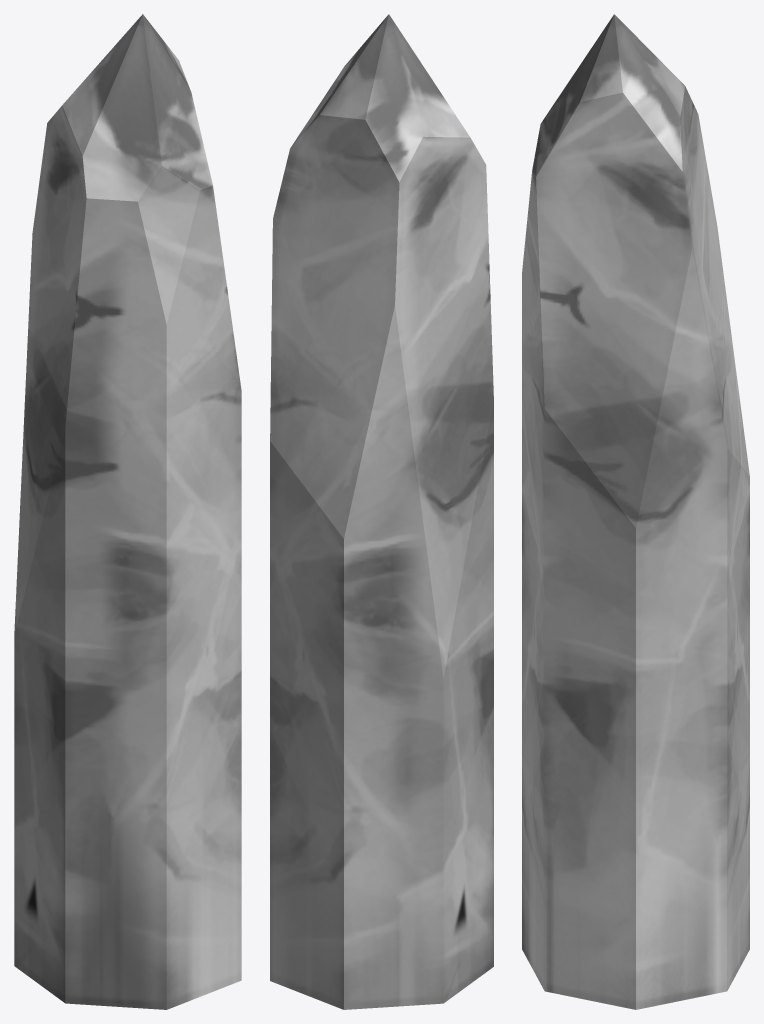
The model's file is Crystal01.fbx.
3 renders of one model, left to right at view 1: azimuth 30°, elevation 25°; view 2: azimuth 150°, elevation 25°; view 3: azimuth 270°, elevation 25°, orthographic.
Visible parts, largest first — view 1: Crystal01; view 2: Crystal01; view 3: Crystal01.
Part boxes in pixels (box(x1,y1,x2,y2)): Crystal01: box(14, 14, 241, 1009); Crystal01: box(270, 14, 493, 1009); Crystal01: box(522, 14, 749, 1009).
Bounding box in the file's own units: 0.692 × 3.26 × 0.7097.
